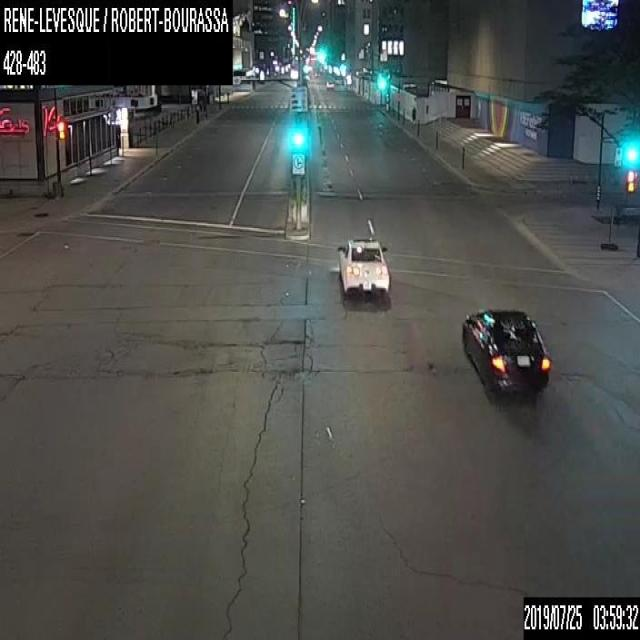vehicle: (461, 306, 553, 398), (335, 235, 391, 300), (326, 79, 336, 88)
